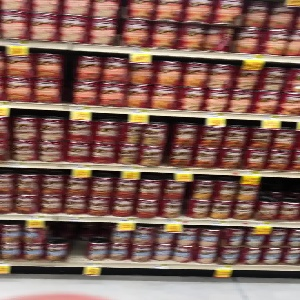void: (67, 218, 87, 266)
